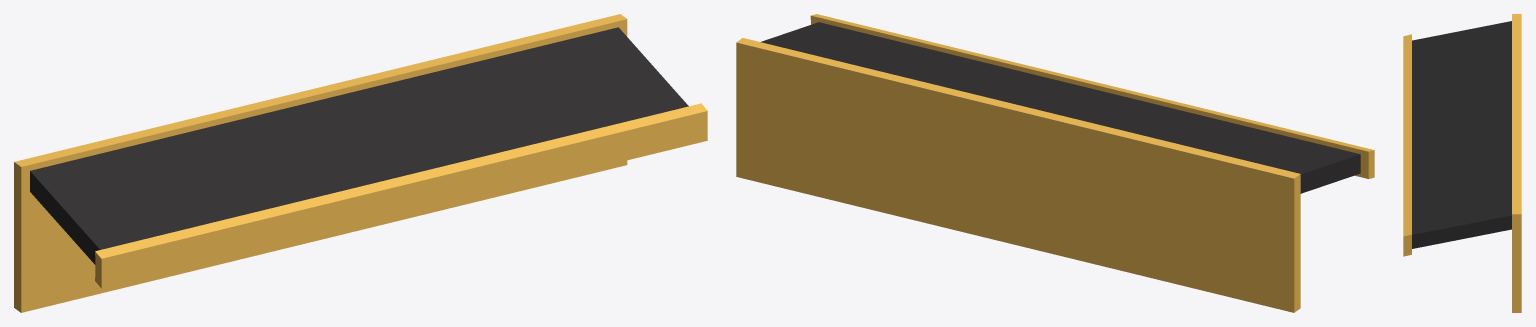
The model's file is BossNamePlate.fbx.
3 views of the same model, side by side, from view 1: azimuth 30°, elevation 25°; view 2: azimuth 150°, elevation 25°; view 3: azimuth 270°, elevation 25° (orthographic). The views are drawn at different scales.
Parts seen in each view (by area): view 1: NamePlate; view 2: NamePlate; view 3: NamePlate.
Boxes of the visible parts, <box> form: NamePlate: <box>14,14,707,312</box>; NamePlate: <box>736,14,1374,312</box>; NamePlate: <box>1403,14,1521,312</box>.
Size of the model in its own units: 17983 by 4136 by 4490.
Materials: 1 (1 with a texture image).
